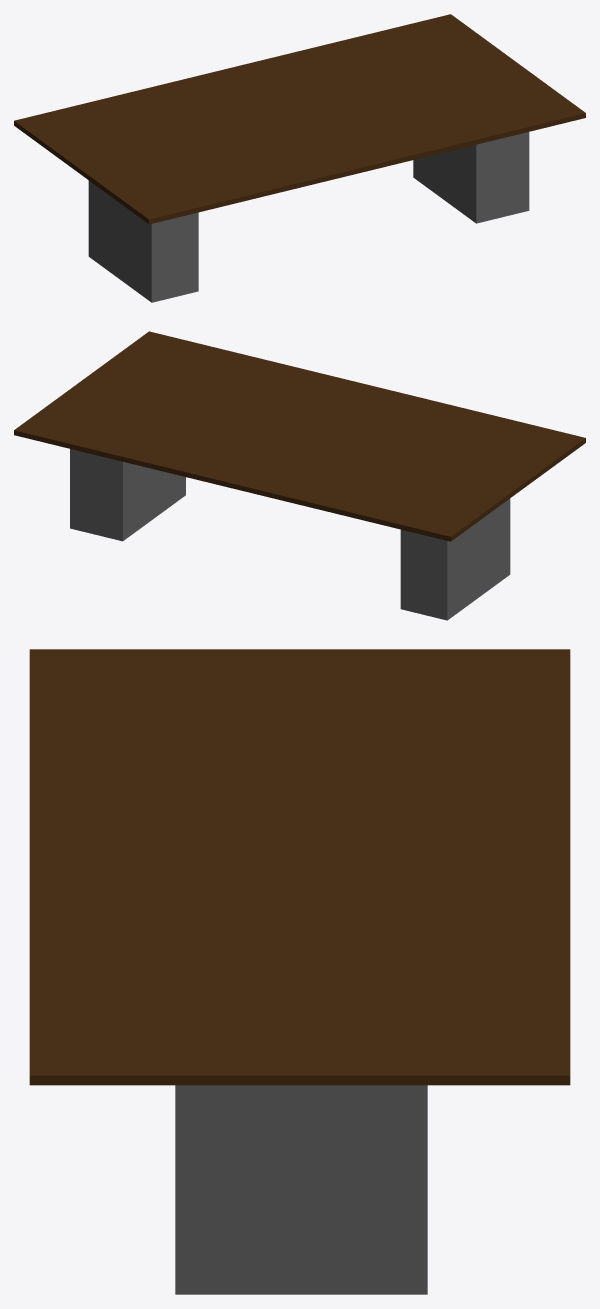
File: TavoloRiunioni.dae
3 views of the same model, one above another, from view 1: azimuth 30°, elevation 25°; view 2: azimuth 150°, elevation 25°; view 3: azimuth 270°, elevation 25° (orthographic). The views are drawn at different scales.
Parts seen in each view (by area): view 1: Cube_002_005, Cube_075, Cube_001_002; view 2: Cube_002_005, Cube_075, Cube_001_002; view 3: Cube_002_005, Cube_001_002.
Boxes of the visible parts, x1,y1,x2,y2 form: Cube_002_005: (14, 14, 585, 224); Cube_075: (88, 180, 198, 302); Cube_001_002: (413, 132, 529, 223); Cube_002_005: (14, 331, 585, 541); Cube_075: (400, 498, 510, 620); Cube_001_002: (70, 449, 185, 541); Cube_002_005: (29, 649, 570, 1085); Cube_001_002: (175, 1085, 427, 1294).
Size of the model in its own units: 2.8 by 1.5 by 0.7312.
